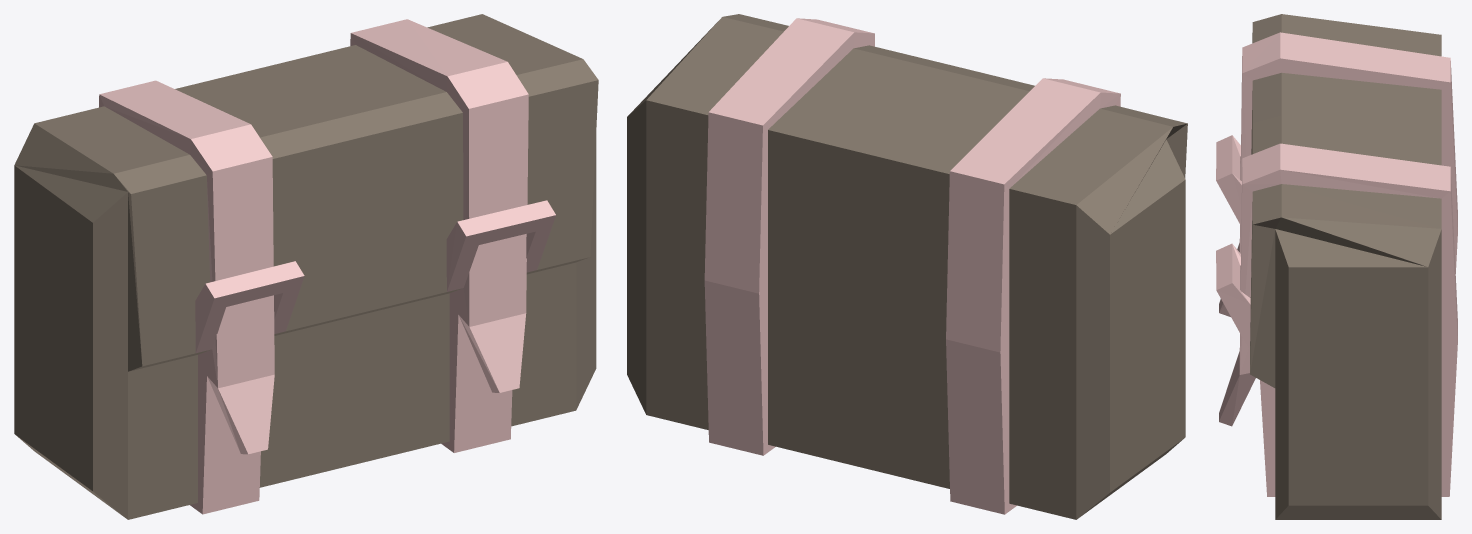
File: SM_Item_Pouch_Attachment_01.glb
3 views of the same model, side by side, from view 1: azimuth 30°, elevation 25°; view 2: azimuth 150°, elevation 25°; view 3: azimuth 270°, elevation 25° (orthographic). The views are drawn at different scales.
Visible parts, largest first — view 1: SM_Item_Pouch_Attachment_01_00; view 2: SM_Item_Pouch_Attachment_01_00; view 3: SM_Item_Pouch_Attachment_01_00.
Part boxes in pixels (x1,y1,x2,y2): SM_Item_Pouch_Attachment_01_00: (14, 14, 598, 519); SM_Item_Pouch_Attachment_01_00: (627, 14, 1187, 519); SM_Item_Pouch_Attachment_01_00: (1216, 14, 1457, 519).
Bounding box in the file's own units: 0.2127 × 0.1499 × 0.0997.
Materials: 1 (1 with a texture image).
